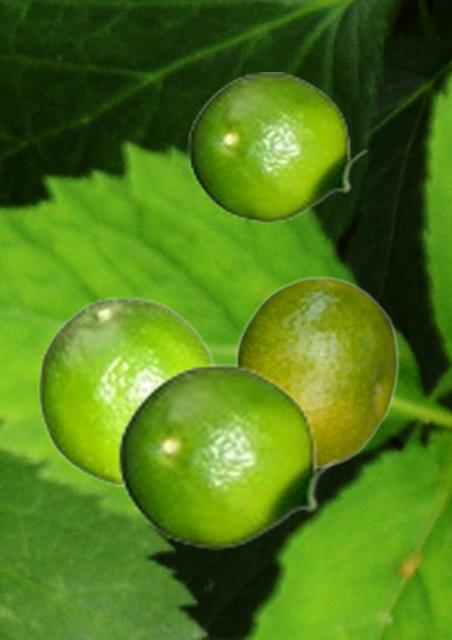calamansi: (116, 364, 340, 549), (37, 295, 219, 485), (232, 275, 398, 467), (186, 72, 369, 223)
